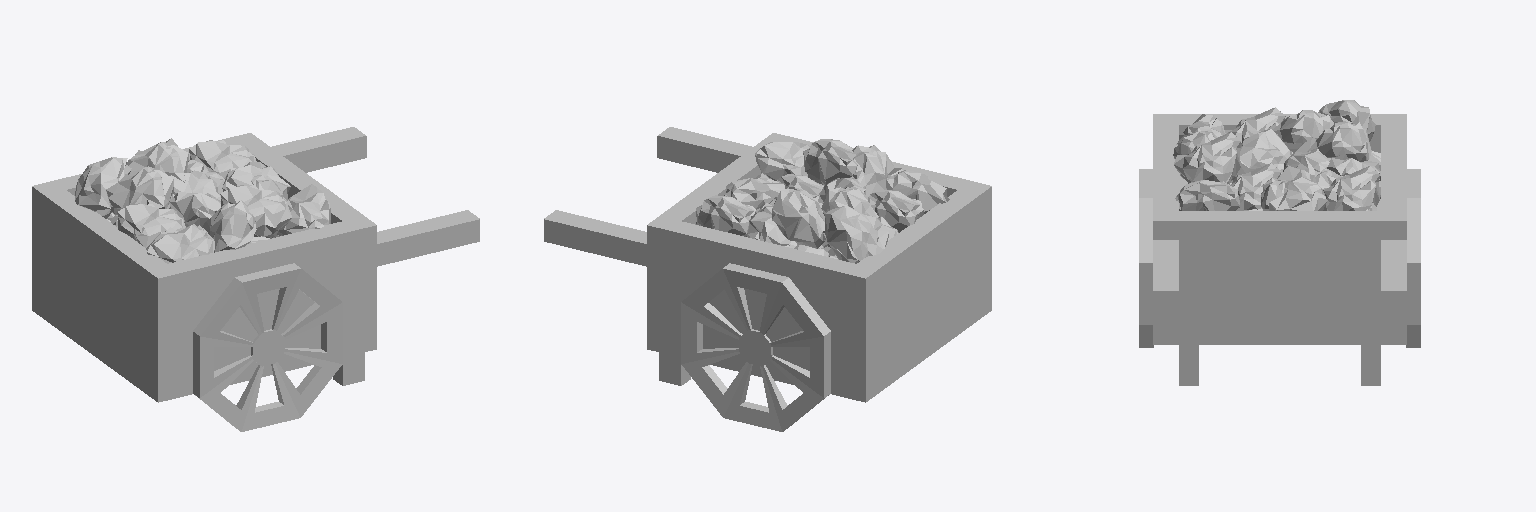
File: Ore Wagon.obj
3 renders of one model, left to right at view 1: azimuth 30°, elevation 25°; view 2: azimuth 150°, elevation 25°; view 3: azimuth 270°, elevation 25°, orthographic.
Parts seen in each view (by area): view 1: Ore_Wagon, Ore_Pile_1, polySurface1Wheels, Ore_Pile_2; view 2: Ore_Wagon, Ore_Pile_1, polySurface1Wheels, Ore_Pile_2; view 3: Ore_Wagon, Ore_Pile_1, polySurface1Wheels, Ore_Pile_2.
Boxes of the visible parts, box(x1,y1,x2,y2) form: Ore_Wagon: box(32, 127, 479, 402); Ore_Pile_1: box(75, 138, 330, 263); polySurface1Wheels: box(193, 263, 342, 431); Ore_Pile_2: box(107, 172, 285, 243); Ore_Wagon: box(544, 127, 991, 402); Ore_Pile_1: box(696, 139, 949, 263); polySurface1Wheels: box(681, 263, 830, 431); Ore_Pile_2: box(696, 173, 897, 259); Ore_Wagon: box(1153, 114, 1406, 385); Ore_Pile_1: box(1173, 100, 1379, 210); polySurface1Wheels: box(1139, 169, 1420, 347); Ore_Pile_2: box(1180, 151, 1380, 210).
Bounding box in the file's own units: 12.4 × 7.67 × 9.39.